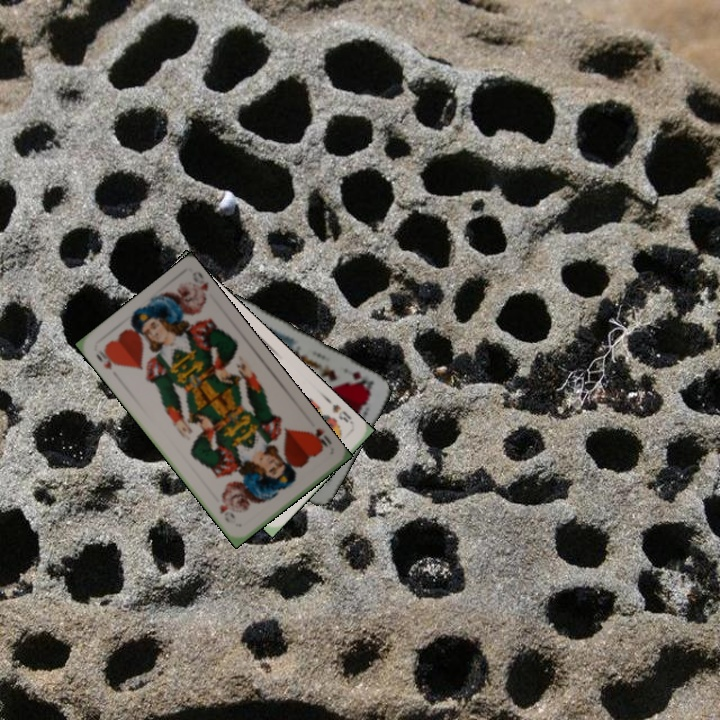HK: (344, 366, 376, 395)
HO: (303, 424, 334, 454), (91, 346, 121, 373)
S8: (328, 400, 357, 428)
